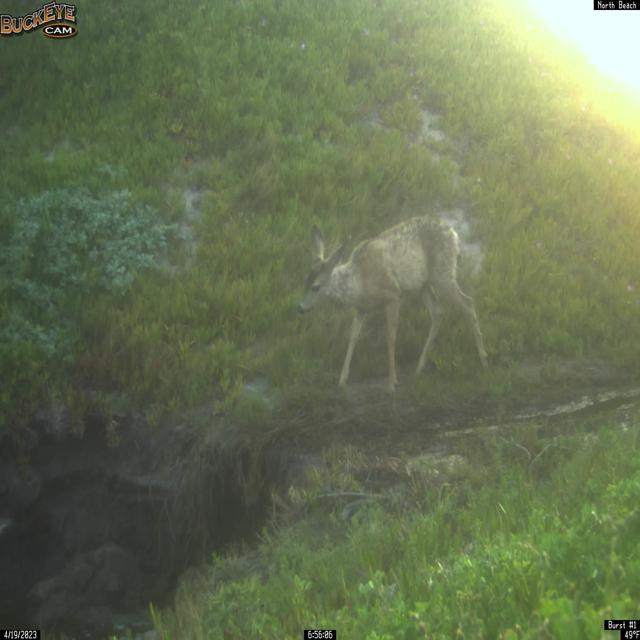deer: (296, 214, 492, 394)
